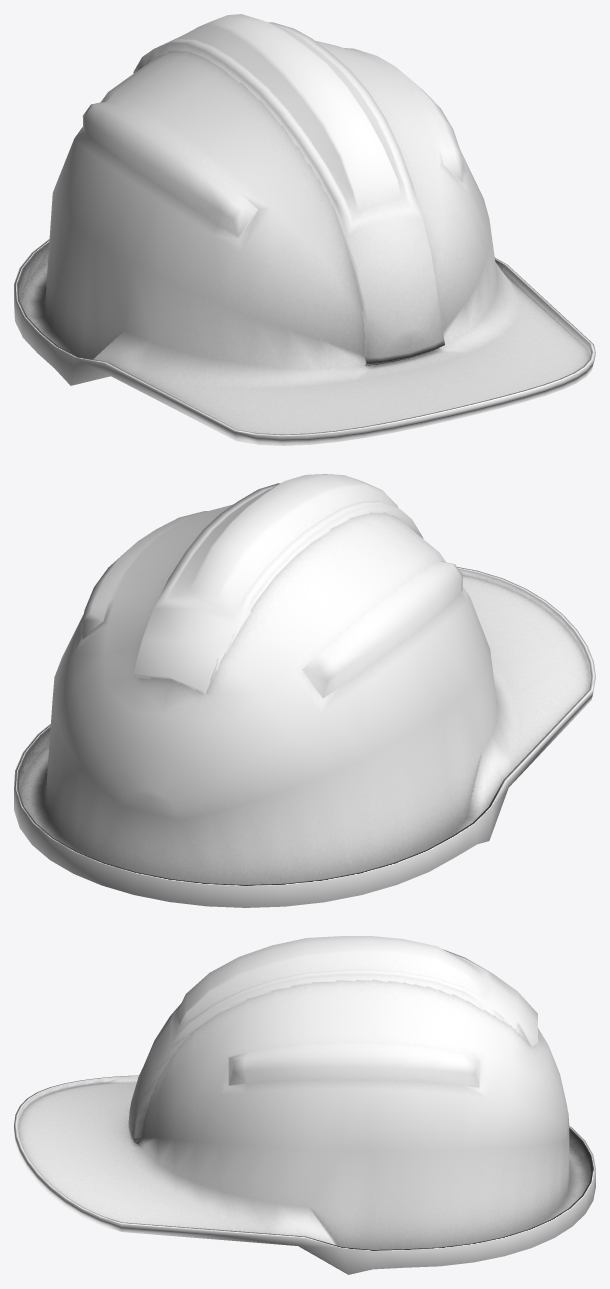
The model's file is hat.glb.
3 views of the same model, one above another, from view 1: azimuth 30°, elevation 25°; view 2: azimuth 150°, elevation 25°; view 3: azimuth 270°, elevation 25° (orthographic). The views are drawn at different scales.
Visible parts, largest first — view 1: Helmet_lambert1_0; view 2: Helmet_lambert1_0; view 3: Helmet_lambert1_0.
Part boxes in pixels (x1,y1,x2,y2): Helmet_lambert1_0: (14,14,595,445); Helmet_lambert1_0: (14,474,595,907); Helmet_lambert1_0: (14,936,595,1274).
Bounding box in the file's own units: 2.23 × 1.48 × 3.15.
Materials: 1 (1 with a texture image).
